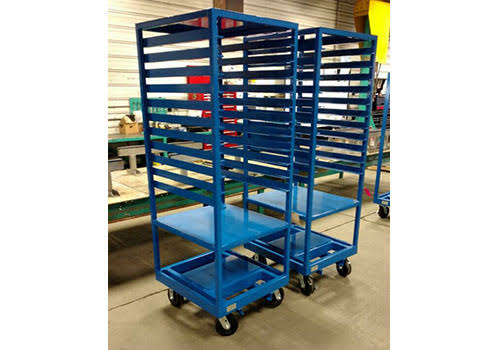Carts: (132, 7, 293, 338)
